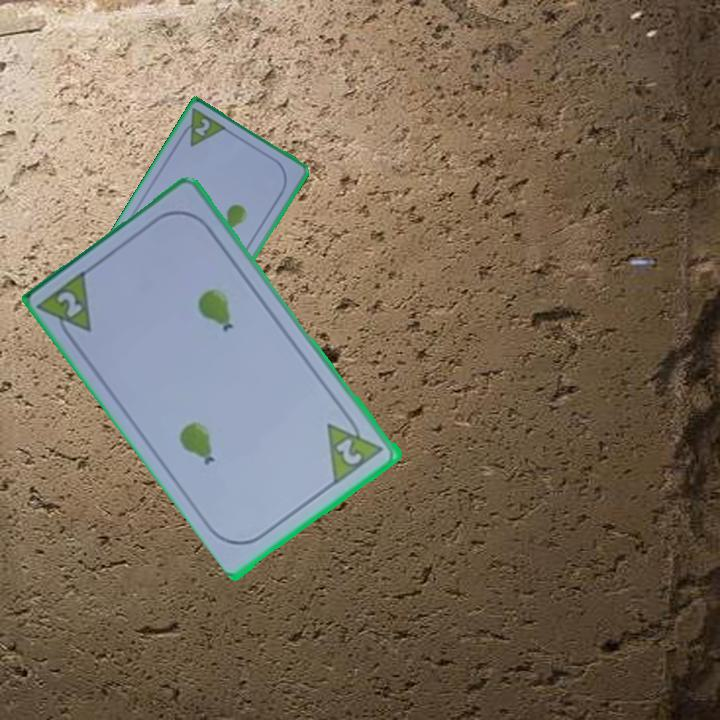2p: (54, 287, 87, 321), (333, 435, 366, 468), (191, 115, 213, 140)
